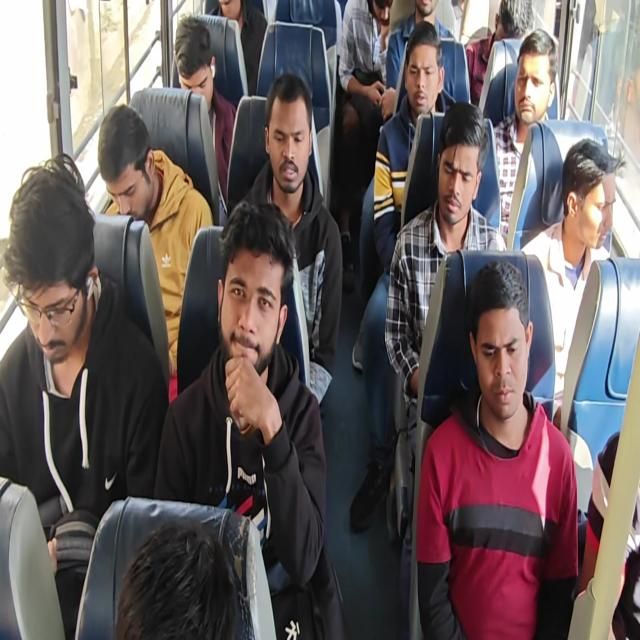person: (0, 174, 117, 376), (119, 494, 245, 640), (196, 231, 282, 395), (560, 131, 623, 279), (464, 288, 530, 426), (99, 94, 159, 220), (261, 88, 312, 206), (509, 28, 563, 137), (163, 17, 221, 112), (441, 116, 473, 224), (484, 0, 532, 57), (402, 40, 430, 112), (352, 0, 400, 40), (409, 0, 441, 29)
